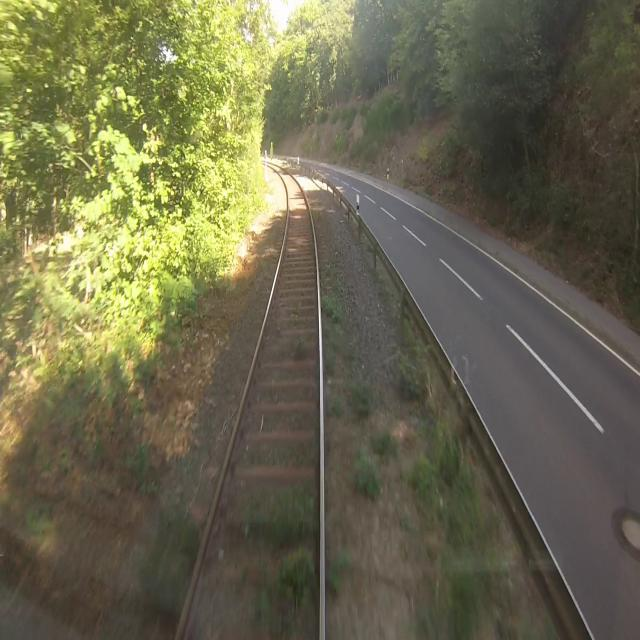Plant: (141, 507, 198, 613), (240, 479, 319, 549), (275, 548, 317, 609), (348, 452, 381, 500), (396, 601, 435, 639), (344, 376, 374, 417), (328, 551, 350, 598), (319, 293, 343, 323), (324, 327, 340, 371), (369, 430, 390, 452), (290, 332, 307, 359), (327, 395, 342, 418)
